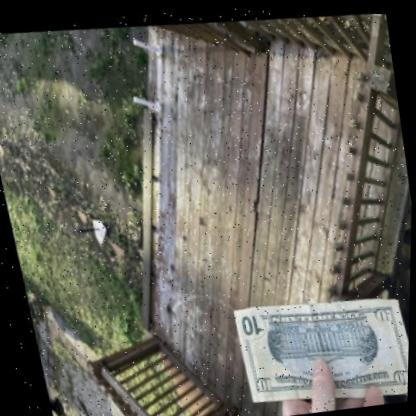dollar_back: (227, 275, 411, 411)
